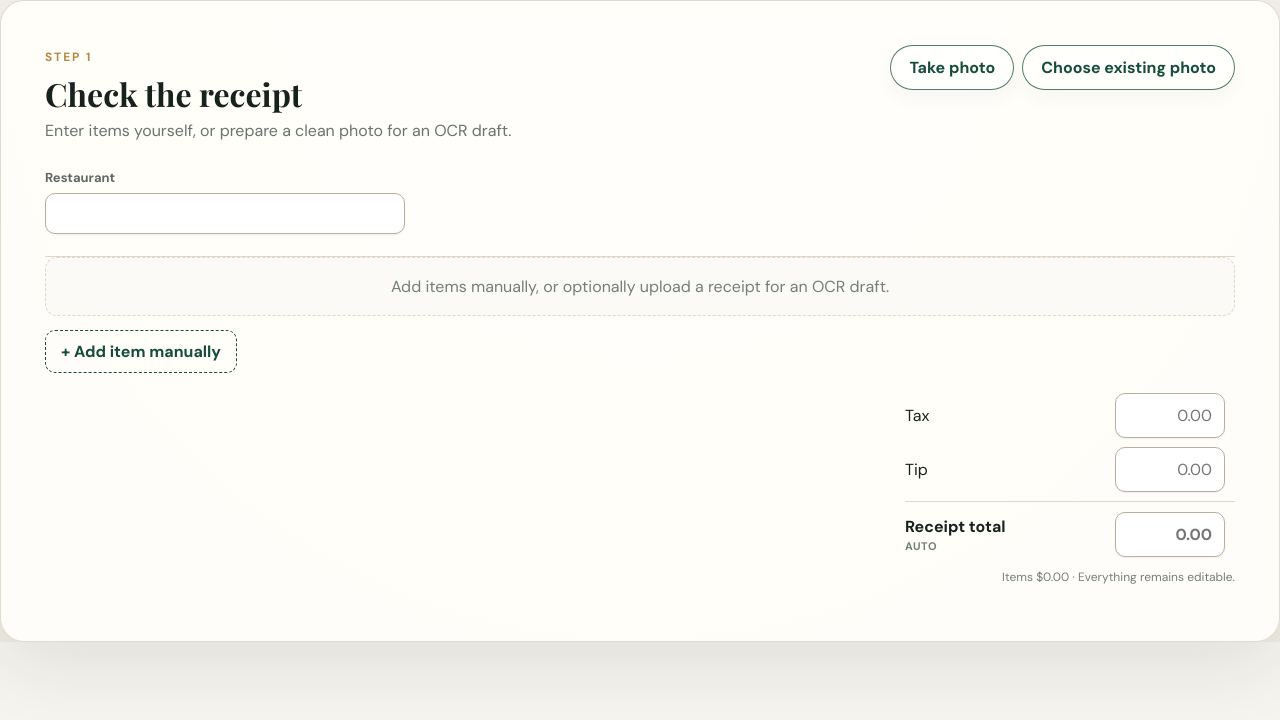
Scenario: receipt photo inputs › opens the rear camera with receipt framing guidance
Click the button "Take photo" at x=952, y=68, box [890,45,1014,90]
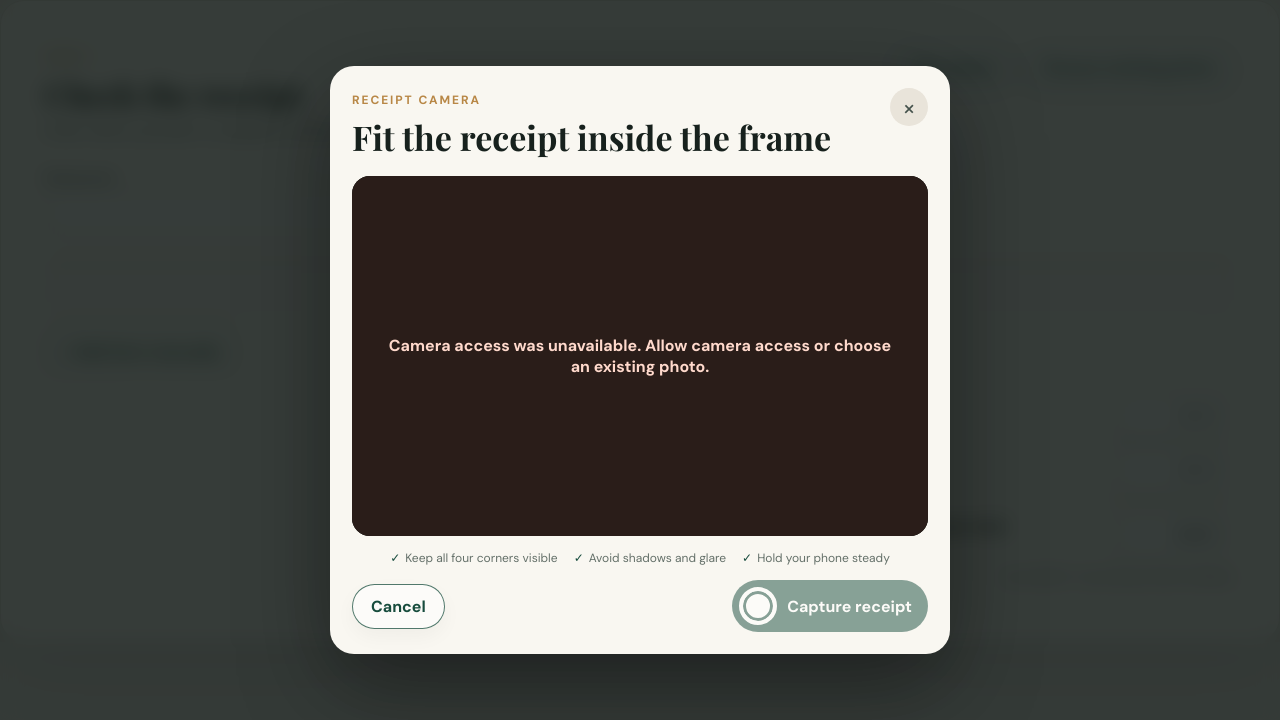
Now the dialog "Fit the receipt inside the frame" is shown
Now the text "Keep all four corners visible" is shown, box [390,550,558,566]
Now the text "Avoid shadows and glare" is shown, box [574,550,726,566]
